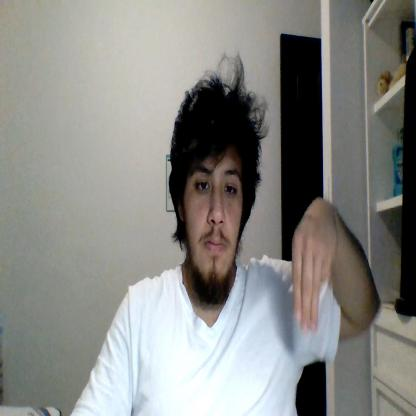M: (292, 200, 337, 333)
